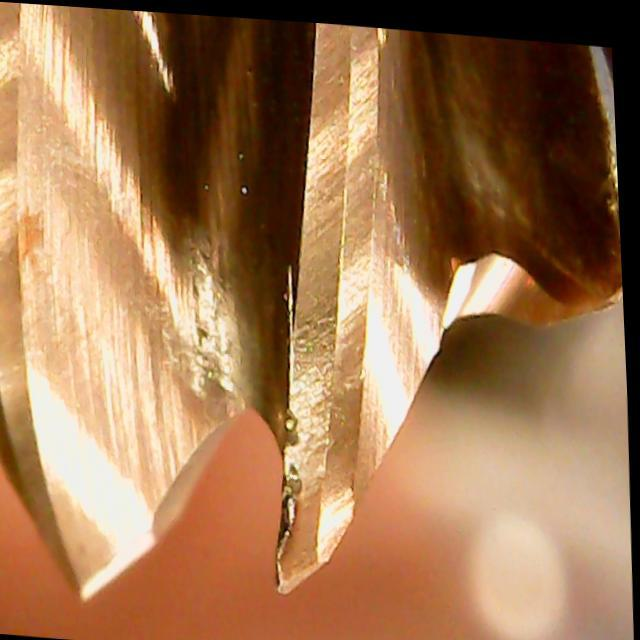Tool-wear-class-1: (256, 234, 403, 607)
